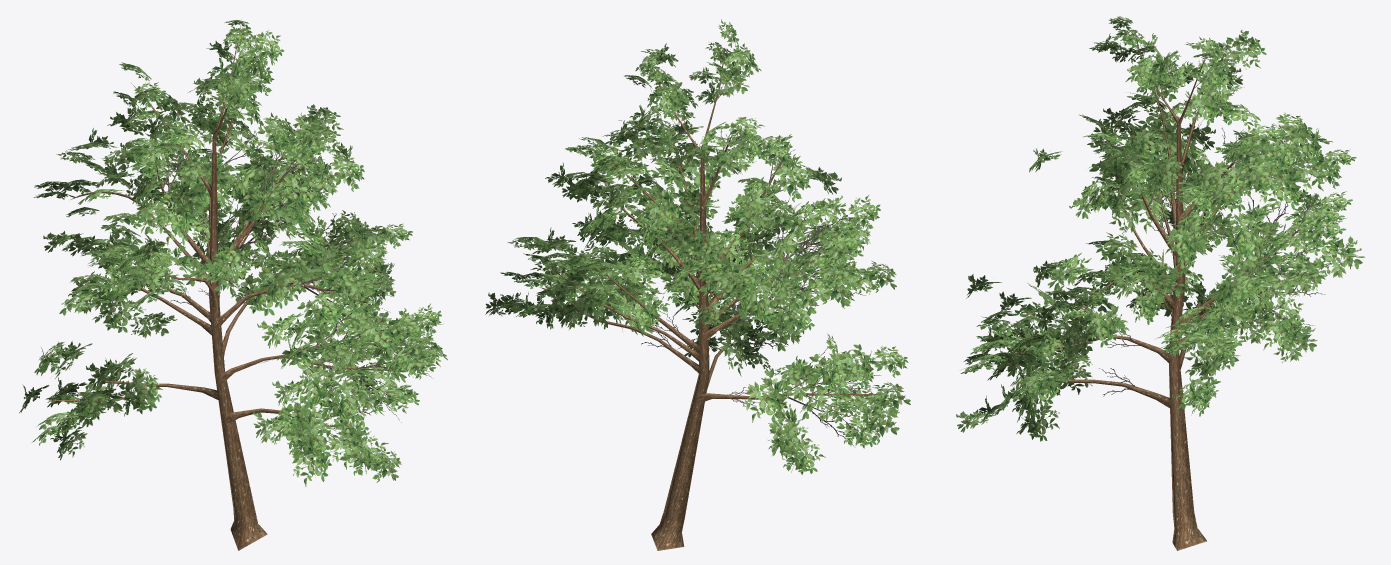
Rendered from KoreanStewartia_Low_gai.glb.
3 renders of one model, left to right at view 1: azimuth 30°, elevation 25°; view 2: azimuth 150°, elevation 25°; view 3: azimuth 270°, elevation 25°, orthographic. The views are drawn at different scales.
Parts seen in each view (by area): view 1: KoreanStewartia_Low_gai; view 2: KoreanStewartia_Low_gai; view 3: KoreanStewartia_Low_gai.
Part boxes in pixels (x1,y1,x2,y2): KoreanStewartia_Low_gai: (19, 20, 447, 550); KoreanStewartia_Low_gai: (485, 19, 910, 550); KoreanStewartia_Low_gai: (956, 16, 1364, 550).
Size of the model in its own units: 2.03 by 2.51 by 1.86.
3 materials, 3 textured.
